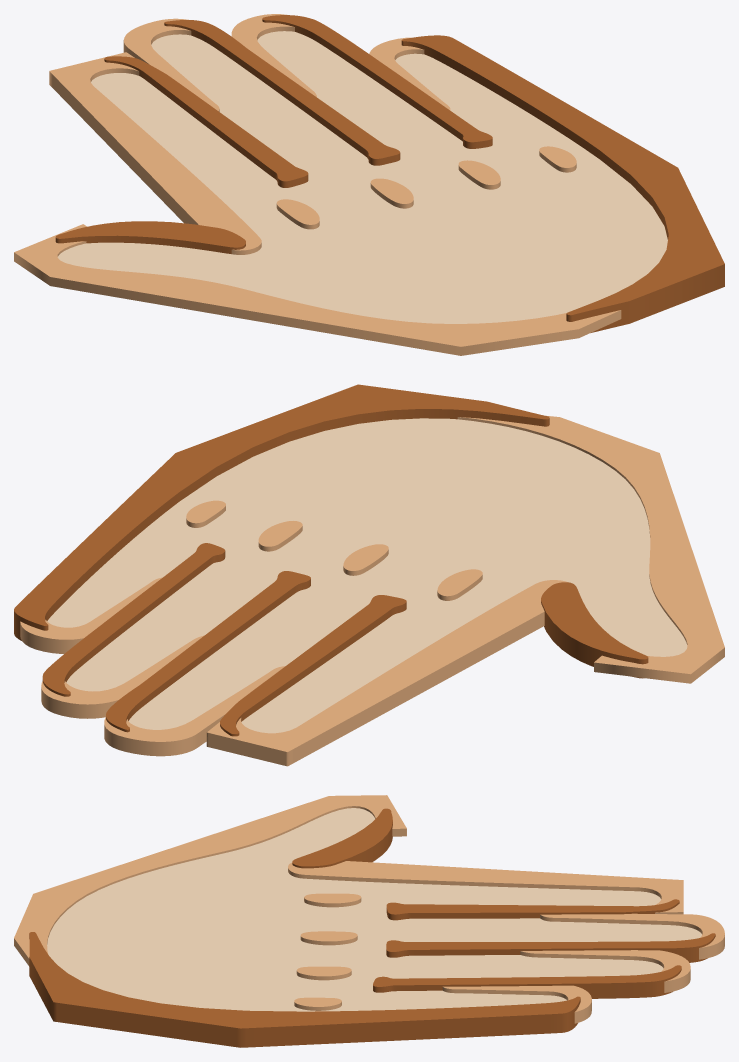
The model's file is emoji_u1f91a_1f3fb.glb.
The picture shows the model from 3 angles, top to bottom: view 1: azimuth 30°, elevation 25°; view 2: azimuth 150°, elevation 25°; view 3: azimuth 270°, elevation 25°; orthographic projection. The views are drawn at different scales.
Parts seen in each view (by area): view 1: emoji_u1f91a_1f3fb; view 2: emoji_u1f91a_1f3fb; view 3: emoji_u1f91a_1f3fb.
Boxes of the visible parts, x1,y1,x2,y2 form: emoji_u1f91a_1f3fb: (14, 14, 724, 355); emoji_u1f91a_1f3fb: (14, 384, 724, 766); emoji_u1f91a_1f3fb: (14, 795, 724, 1047).
Bounding box in the file's own units: 0.0266 × 0.001 × 0.0334.
